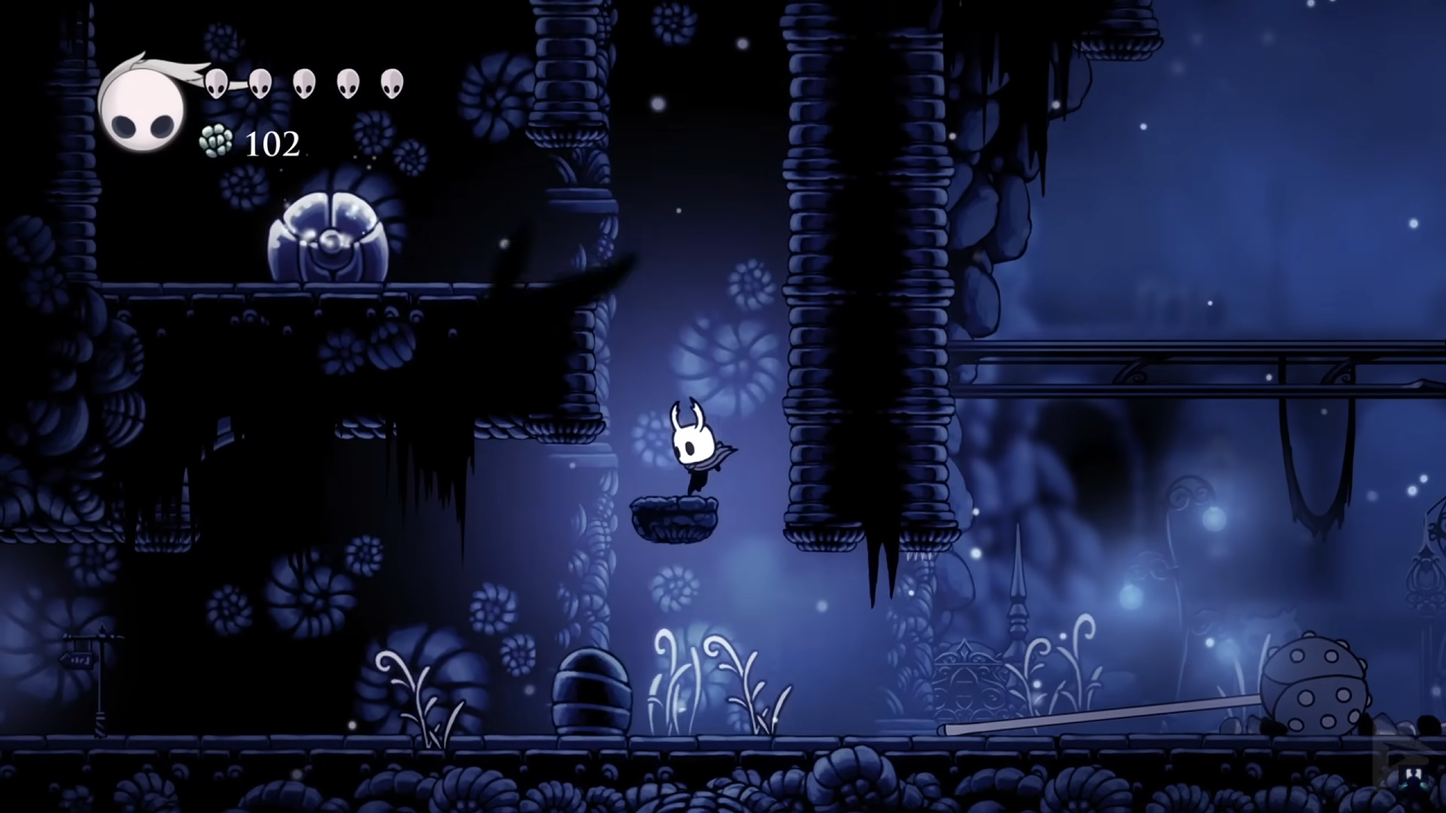HK: (666, 397, 727, 494)
